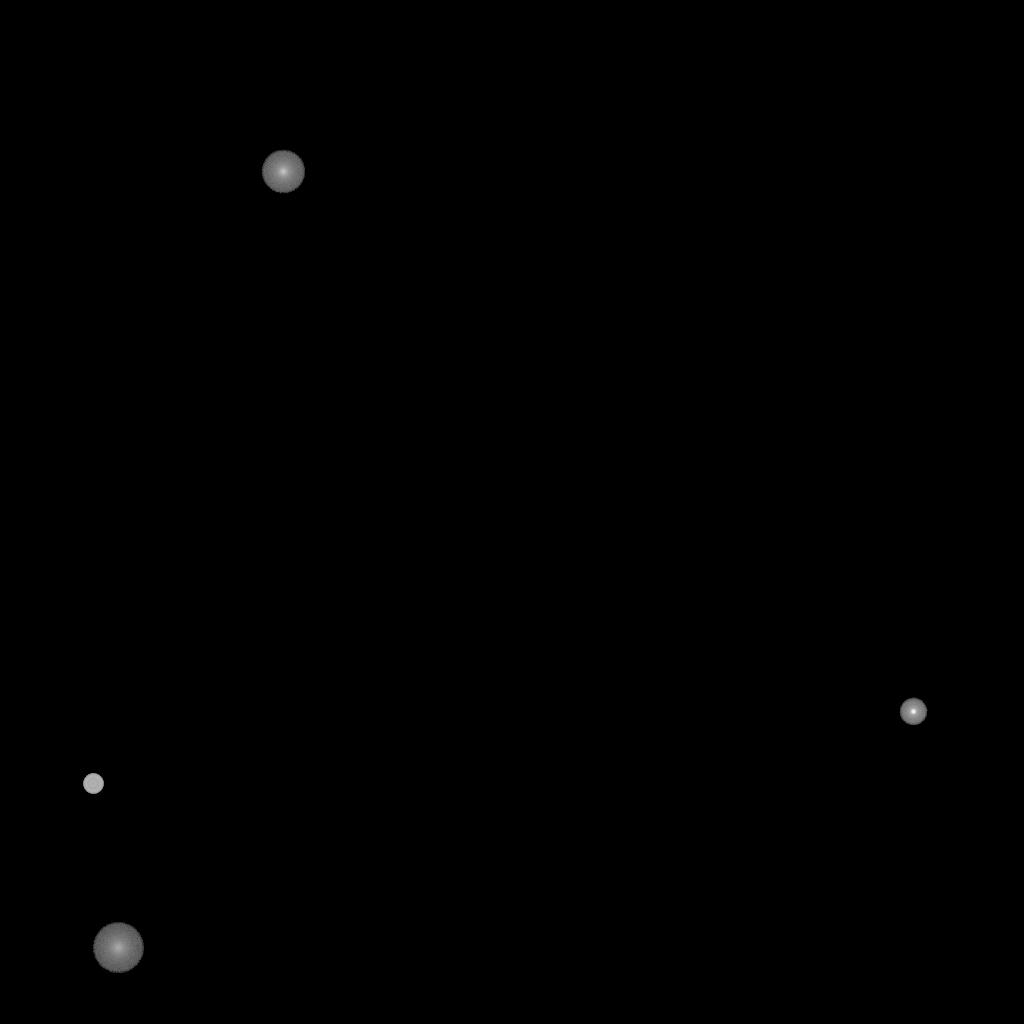depth:-10: (899, 698, 927, 726)
depth:-40: (83, 774, 103, 794)
depth:10: (261, 150, 305, 194)
depth:20: (92, 923, 144, 973)
